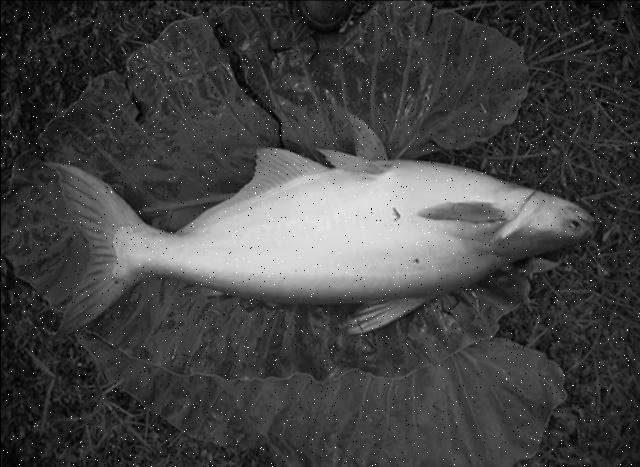Mulut: (554, 183, 622, 255)
Sirip Anal: (162, 133, 330, 247)
Sirip Dada: (408, 189, 514, 234)
Sirip Ekor: (35, 144, 155, 348)
Sirip Perut: (308, 102, 400, 183)
Sirip Punggung: (320, 277, 444, 353)
